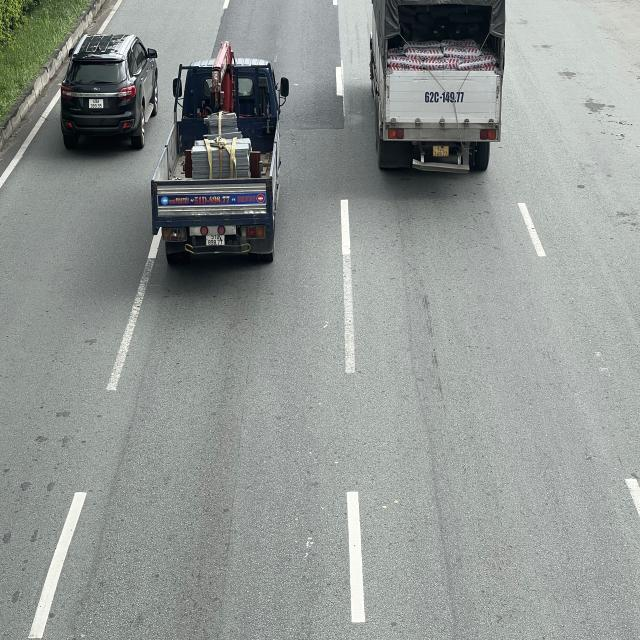car: (59, 33, 158, 145)
truck: (150, 57, 291, 267), (370, 0, 503, 175)
